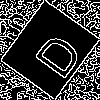D: (24, 25, 85, 82)
